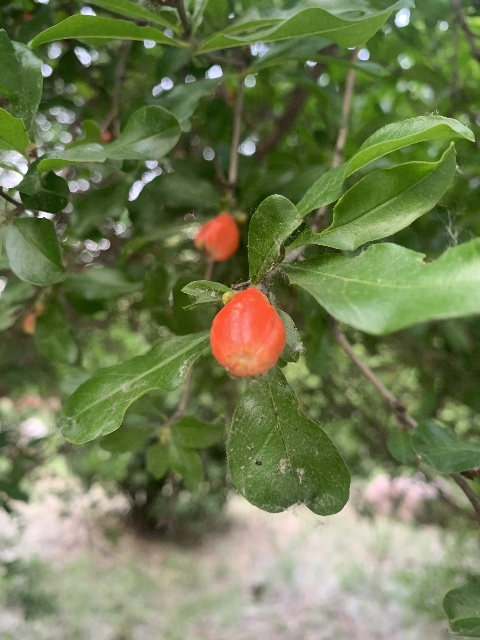bud: (210, 288, 285, 377), (194, 213, 240, 262)
